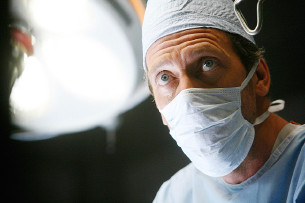face_mask: (150, 27, 251, 176)
